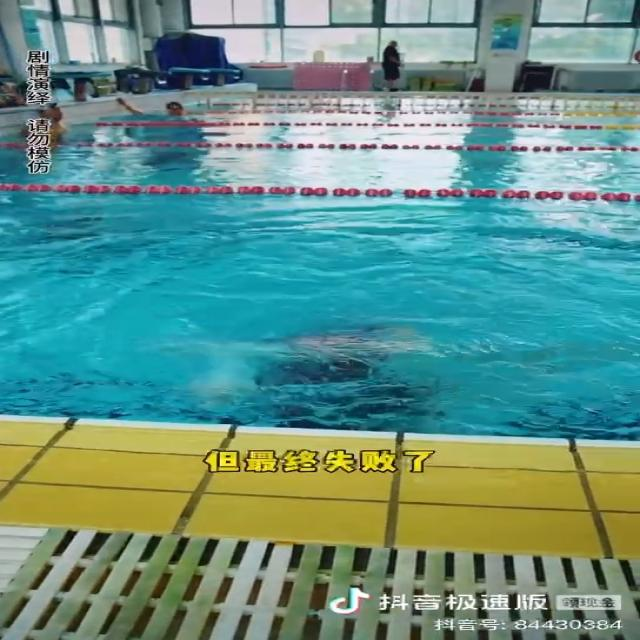Drowning: (192, 315, 474, 421)
